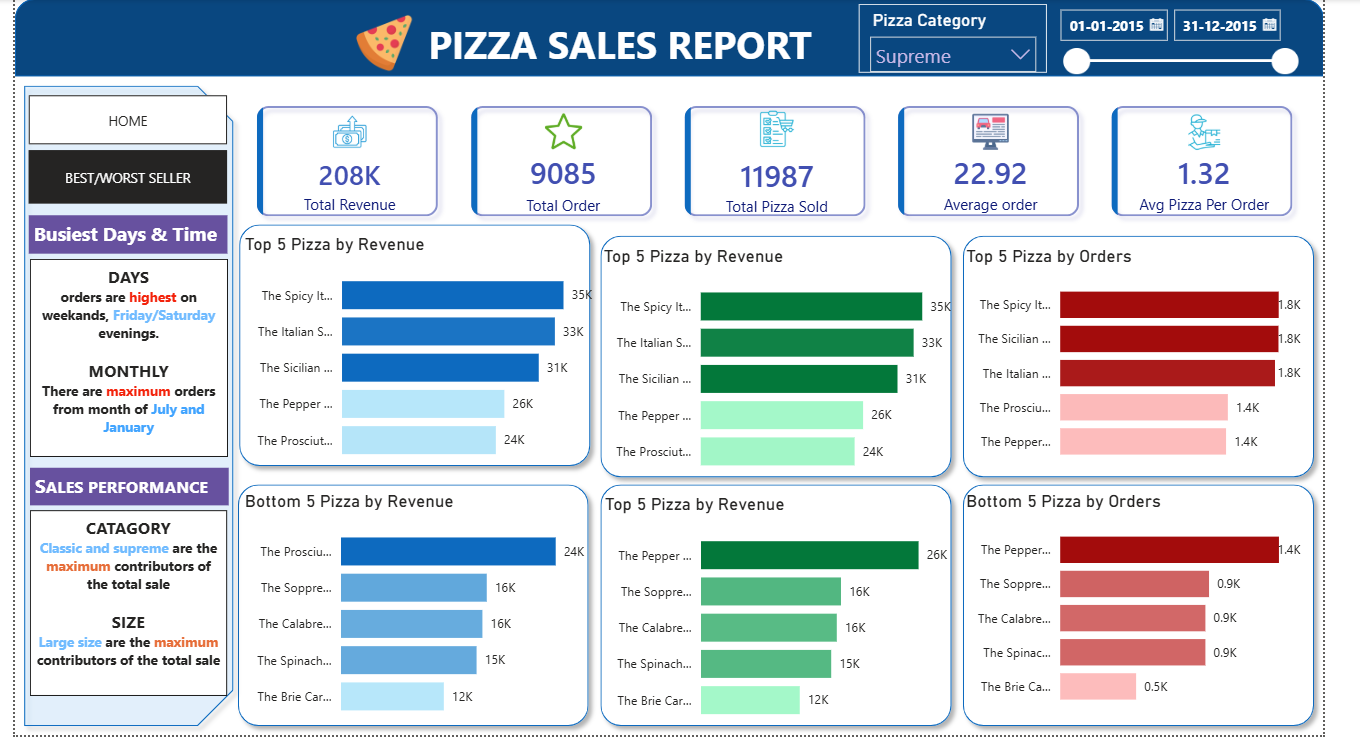

The page's visual inventory and layout, read from the dashboard file:
{"tool":"powerbi","page":{"name":"BEST/WORST SELLER","canvas":[1280,720],"ordinal":1},"visuals":[{"type":"shape","box":[0,0,1280.3,75.8],"z":0},{"type":"textbox","box":[81.4,12.9,1020,62.9],"z":1000},{"type":"image","box":[317.1,14.3,88.6,57.1],"z":2000},{"type":"cardVisual","fields":{"Data":["pizza_sales.Total Revenue","pizza_sales.Total Order","pizza_sales.Total Pizza Sold","pizza_sales.Avg Pizza Per Order","pizza_sales.Avg Pizza Per Order1"]},"box":[207.9,75.8,1072.4,166.3],"z":3000},{"type":"shape","box":[208.6,465.7,361,254.3],"z":4000},{"type":"shape","box":[564.3,465.7,361.4,254.3],"z":5000},{"type":"shape","box":[918.6,465.7,361.4,254.3],"z":6000},{"type":"shape","box":[0,75.8,222.6,644.4],"z":7000},{"type":"textbox","box":[13.3,211.1,194.4,37.8],"z":8000},{"type":"textbox","box":[14.4,254.4,193.3,193.3],"z":9000},{"type":"textbox","box":[14.3,500,192.9,181.4],"z":10000},{"type":"textbox","box":[14.3,458.6,194.3,37.1],"z":11000},{"type":"slicer","fields":{"Values":["pizza_sales.pizza_category"]},"box":[825.7,4.3,184.3,67.1],"z":12000},{"type":"slicer","fields":{"Values":["pizza_sales.order_date"]},"box":[1010,0,253.3,76.7],"z":13000},{"type":"shape","box":[210,211.4,361.4,254.3],"z":14000},{"type":"shape","box":[564.3,222.9,361.4,254.3],"z":15000},{"type":"shape","box":[918.6,222.9,361.4,254.3],"z":16000},{"type":"barChart","title":"Top 5 Pizza by Revenue","fields":{"Category":["pizza_sales.pizza_name"],"Y":["pizza_sales.Total Revenue"]},"box":[220,230,350,235.7],"z":17000},{"type":"barChart","title":"Top 5 Pizza by Orders","fields":{"Category":["pizza_sales.pizza_name"],"Y":["pizza_sales.Total Order"]},"box":[925.7,241.4,337.1,224.3],"z":18000},{"type":"barChart","title":"Bottom 5 Pizza by Orders","fields":{"Category":["pizza_sales.pizza_name"],"Y":["pizza_sales.Total Order"]},"box":[925.7,480,337.1,224.3],"z":19000},{"type":"barChart","title":"Bottom 5 Pizza by Revenue","fields":{"Category":["pizza_sales.pizza_name"],"Y":["pizza_sales.Total Revenue"]},"box":[220,480,344.3,235.7],"z":20000},{"type":"barChart","title":"Top 5 Pizza by Revenue","fields":{"Category":["pizza_sales.pizza_name"],"Y":["pizza_sales.Total Revenue"]},"box":[571.4,241.4,350,235.7],"z":21000},{"type":"barChart","title":"Top 5 Pizza by Revenue","fields":{"Category":["pizza_sales.pizza_name"],"Y":["pizza_sales.Total Revenue"]},"box":[572.9,484.3,345.7,235.7],"z":22000},{"type":"pageNavigator","box":[12.9,148.6,194.3,52.9],"z":23000},{"type":"pageNavigator","box":[12.9,94.3,194.3,48.6],"z":24000}]}

Visuals, with their boxes in screenshot pixels (x1, y1, x2, y2), scaled from the page's 1280x720 canvas onto the 1360x743 screenshot:
shape: pyautogui.locateOnScreen(0, 0, 1359, 78)
textbox: pyautogui.locateOnScreen(86, 13, 1170, 78)
image: pyautogui.locateOnScreen(337, 15, 431, 74)
cardVisual - pizza_sales.Total Revenue x pizza_sales.Total Order: pyautogui.locateOnScreen(221, 78, 1359, 250)
shape: pyautogui.locateOnScreen(222, 481, 605, 742)
shape: pyautogui.locateOnScreen(600, 481, 984, 742)
shape: pyautogui.locateOnScreen(976, 481, 1359, 742)
shape: pyautogui.locateOnScreen(0, 78, 237, 742)
textbox: pyautogui.locateOnScreen(14, 218, 221, 257)
textbox: pyautogui.locateOnScreen(15, 263, 221, 462)
textbox: pyautogui.locateOnScreen(15, 516, 220, 703)
textbox: pyautogui.locateOnScreen(15, 473, 222, 512)
slicer - pizza_sales.pizza_category: pyautogui.locateOnScreen(877, 4, 1073, 74)
slicer - pizza_sales.order_date: pyautogui.locateOnScreen(1073, 0, 1342, 79)
shape: pyautogui.locateOnScreen(223, 218, 607, 481)
shape: pyautogui.locateOnScreen(600, 230, 984, 492)
shape: pyautogui.locateOnScreen(976, 230, 1359, 492)
"Top 5 Pizza by Revenue" barChart: pyautogui.locateOnScreen(234, 237, 606, 481)
"Top 5 Pizza by Orders" barChart: pyautogui.locateOnScreen(984, 249, 1342, 481)
"Bottom 5 Pizza by Orders" barChart: pyautogui.locateOnScreen(984, 495, 1342, 727)
"Bottom 5 Pizza by Revenue" barChart: pyautogui.locateOnScreen(234, 495, 600, 739)
"Top 5 Pizza by Revenue" barChart: pyautogui.locateOnScreen(607, 249, 979, 492)
"Top 5 Pizza by Revenue" barChart: pyautogui.locateOnScreen(609, 500, 976, 742)
pageNavigator: pyautogui.locateOnScreen(14, 153, 220, 208)
pageNavigator: pyautogui.locateOnScreen(14, 97, 220, 147)
